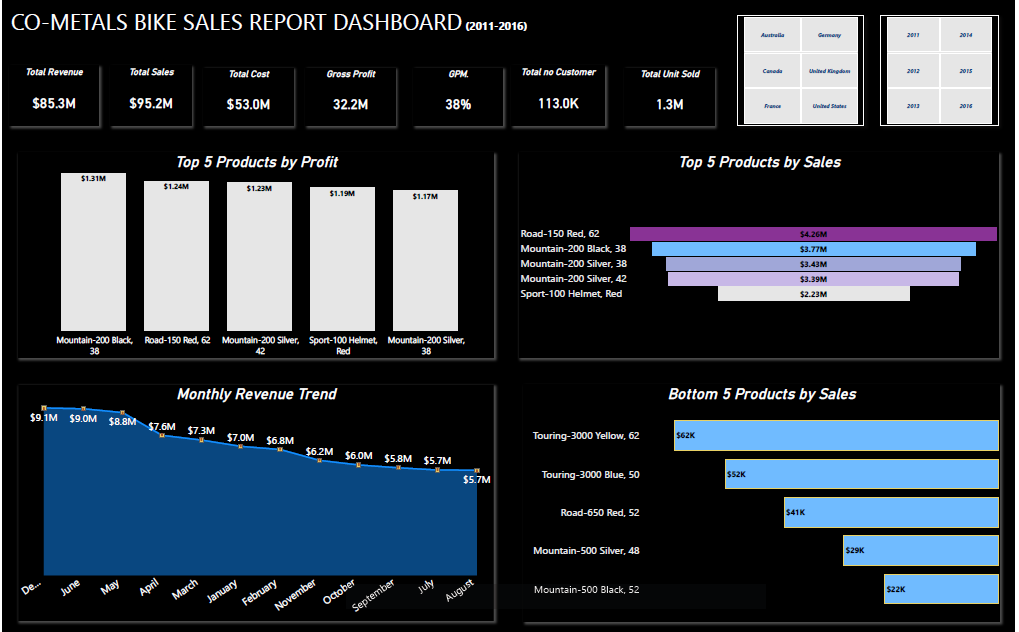

The page's visual inventory and layout, read from the dashboard file:
{"tool":"powerbi","page":{"name":" DASHBOARD 2","canvas":[4000,2500],"ordinal":1},"visuals":[{"type":"textbox","box":[30,16.7,2166.7,193.3],"z":0},{"type":"card","title":"Total Revenue","fields":{"Values":["Sum(DATASET.Revenue)"]},"box":[30,260,350,236.7],"z":1000},{"type":"card","title":"Total Sales","fields":{"Values":["Sum(DATASET.Total Sales)"]},"box":[430,260,316.7,236.7],"z":2000},{"type":"card","title":"Total Unit Sold","fields":{"Values":["Sum(DATASET.Order_Quantity)"]},"box":[2460,270,353.3,226.7],"z":3000},{"type":"card","title":"Total Cost","fields":{"Values":["Sum(DATASET.Total Cost)"]},"box":[796.7,270,353.3,226.7],"z":4000},{"type":"card","title":"GPM.","fields":{"Values":["DATASET.Gross Profit Margin"]},"box":[1626.7,270,350,226.7],"z":5000},{"type":"card","title":"Total no Customer","fields":{"Values":["CountNonNull(DATASET.Customer_Gender)"]},"box":[2013.3,260,366.7,236.7],"z":6000},{"type":"card","title":"Gross Profit","fields":{"Values":["DATASET.Gross Profit"]},"box":[1200,270,353.3,226.7],"z":7000},{"type":"slicer","fields":{"Values":["DATASET.Year"]},"box":[3470,60,465,435],"z":8000},{"type":"slicer","fields":{"Values":["DATASET.Country"]},"box":[2905,60,500,435],"z":9000},{"type":"clusteredColumnChart","title":"Top 5 Products by Profit","fields":{"Y":["Sum(DATASET.Profit)"],"Category":["DATASET.Product"]},"box":[63.3,603.3,1880,810],"z":10000},{"type":"funnel","title":"Top 5 Products by Sales","fields":{"Category":["DATASET.Product"],"Y":["Sum(DATASET.Total Sales)"]},"box":[2043.3,603.3,1893.3,810],"z":11000},{"type":"lineChart","title":" Monthly Revenue Trend ","fields":{"Y":["Sum(DATASET.Revenue)"],"Category":["DATASET.Month"]},"box":[63.3,1520,1880,933.3],"z":12000},{"type":"clusteredBarChart","title":"Bottom 5 Products by Sales","fields":{"Category":["DATASET.Product"],"Y":["Sum(DATASET.Total Sales)"]},"box":[2060,1520,1880,935],"z":13000}]}

Visuals, with their boxes in screenshot pixels (x1, y1, x2, y2), scaled from the page's 4000x2500 canvas onto the 1019x632 screenshot:
textbox: bbox=(8, 4, 560, 53)
"Total Revenue" card: bbox=(8, 66, 97, 126)
"Total Sales" card: bbox=(110, 66, 190, 126)
"Total Unit Sold" card: bbox=(627, 68, 717, 126)
"Total Cost" card: bbox=(203, 68, 293, 126)
"GPM." card: bbox=(414, 68, 504, 126)
"Total no Customer" card: bbox=(513, 66, 606, 126)
"Gross Profit" card: bbox=(306, 68, 396, 126)
slicer - DATASET.Year: bbox=(884, 15, 1002, 125)
slicer - DATASET.Country: bbox=(740, 15, 867, 125)
"Top 5 Products by Profit" clusteredColumnChart: bbox=(16, 153, 495, 357)
"Top 5 Products by Sales" funnel: bbox=(521, 153, 1003, 357)
" Monthly Revenue Trend " lineChart: bbox=(16, 384, 495, 620)
"Bottom 5 Products by Sales" clusteredBarChart: bbox=(525, 384, 1004, 621)
